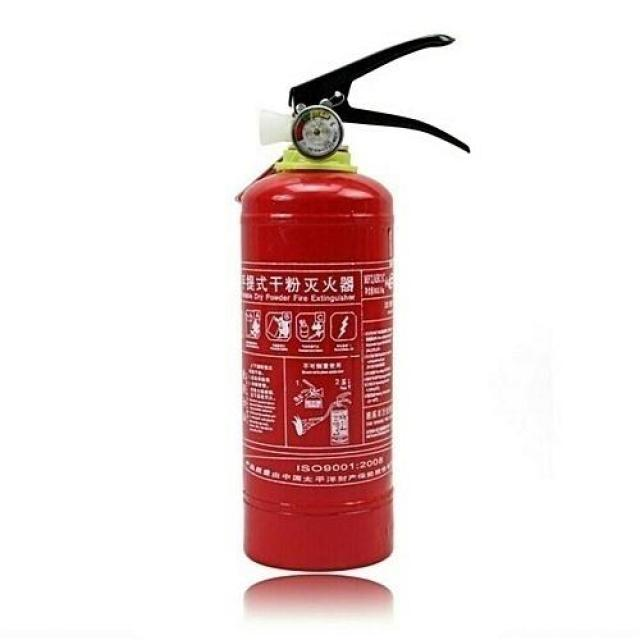fire_extinguisher: (227, 27, 474, 578)
